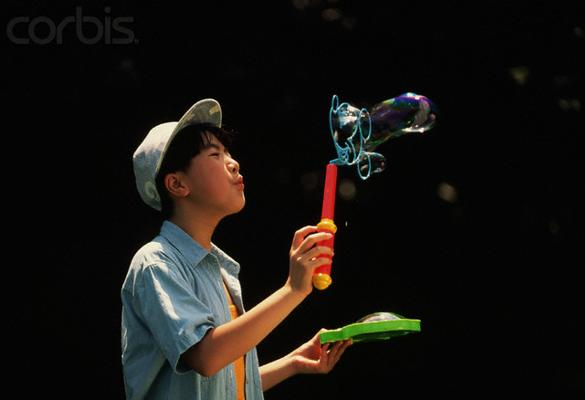person: (114, 91, 357, 392)
